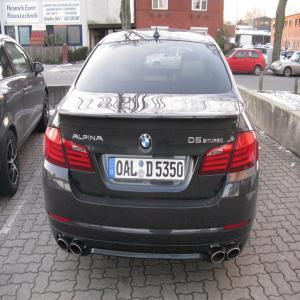Vehicle-registration-plate: (103, 153, 193, 199)
